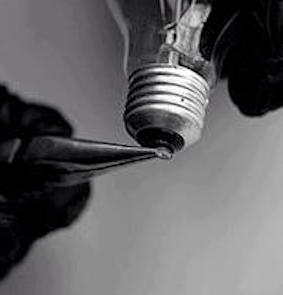Light_bulb: (103, 1, 227, 167)
